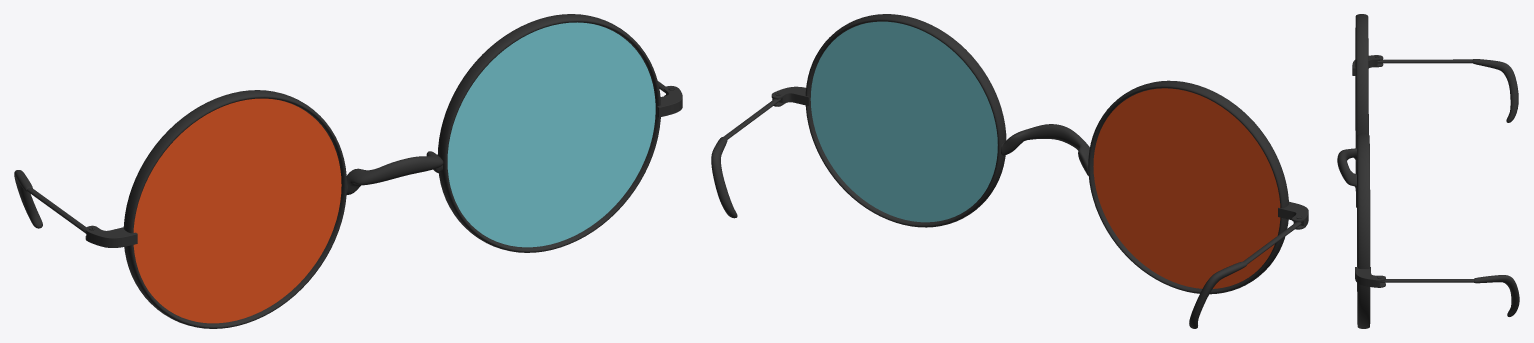
The model's file is gr_spectacles_ver_2.glb.
3 renders of one model, left to right at view 1: azimuth 30°, elevation 25°; view 2: azimuth 150°, elevation 25°; view 3: azimuth 270°, elevation 25°, orthographic. The views are drawn at different scales.
Visible parts, largest first — view 1: polySurface3, polySurface2, polySurface4, polySurface1, pCube3, pCube4, pCube1, pCube5; view 2: polySurface3, polySurface2, polySurface4, polySurface1, pCube3, pCube2, pCube4, pCube5, pCube1; view 3: polySurface4, polySurface1, pCube4, pCube2, pCube3, pCube5, pCube1.
Part boxes in pixels (x1,y1,x2,y2): polySurface3: (447, 22, 655, 247); polySurface2: (133, 98, 341, 323); polySurface4: (437, 14, 660, 252); polySurface1: (123, 90, 346, 328); pCube3: (346, 151, 443, 194); pCube4: (14, 170, 86, 233); pCube1: (85, 225, 137, 247); pCube5: (657, 86, 682, 117); polySurface3: (810, 21, 997, 222); polySurface2: (1093, 88, 1280, 288); polySurface4: (805, 14, 1006, 227); polySurface1: (1088, 80, 1288, 294); pCube3: (1001, 124, 1089, 175); pCube2: (711, 99, 780, 218); pCube4: (1189, 222, 1301, 328); pCube5: (771, 86, 809, 106); pCube1: (1278, 201, 1308, 229); polySurface4: (1357, 133, 1370, 328); polySurface1: (1355, 14, 1368, 207); pCube4: (1377, 59, 1518, 122); pCube2: (1380, 275, 1519, 316); pCube3: (1337, 148, 1356, 192); pCube5: (1355, 267, 1385, 287); pCube1: (1352, 55, 1383, 75).
Size of the model in its own units: 5.6 by 2.09 by 1.93.
